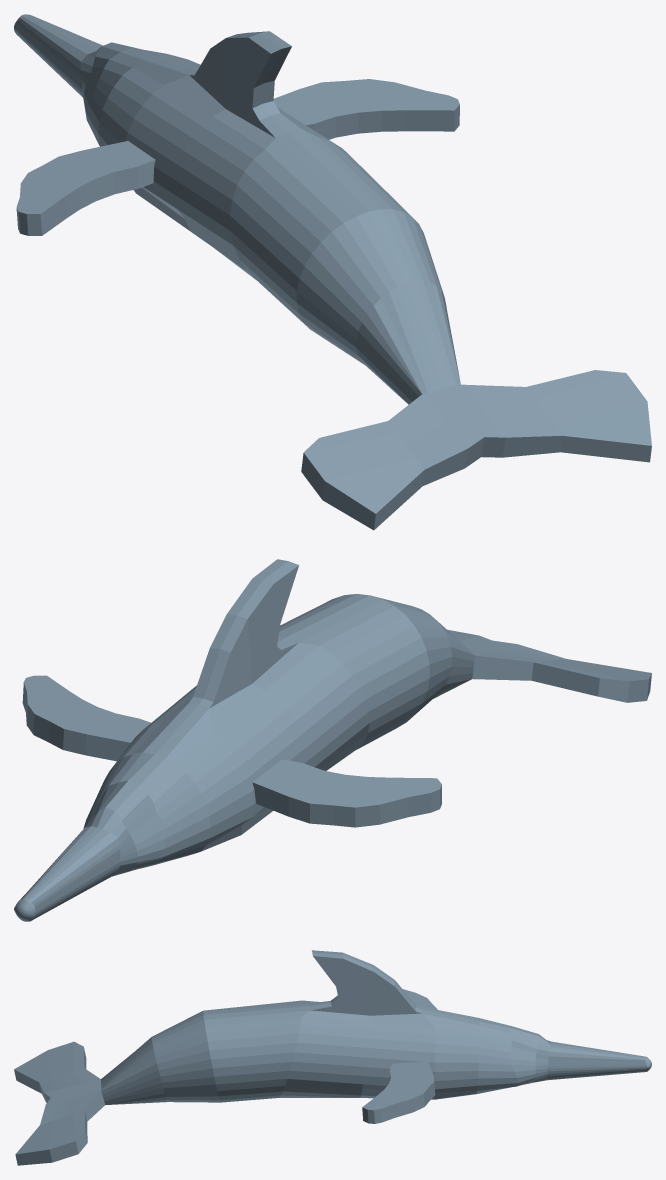
File: dolphin.fbx
3 views of the same model, one above another, from view 1: azimuth 30°, elevation 25°; view 2: azimuth 150°, elevation 25°; view 3: azimuth 270°, elevation 25° (orthographic). The views are drawn at different scales.
Visible parts, largest first — view 1: dolphin; view 2: dolphin; view 3: dolphin.
Boxes of the visible parts, x1,y1,x2,y2 form: dolphin: (14,14,651,530); dolphin: (14,559,651,921); dolphin: (14,950,651,1165).
Bounding box in the file's own units: 758 × 455 × 1528.
